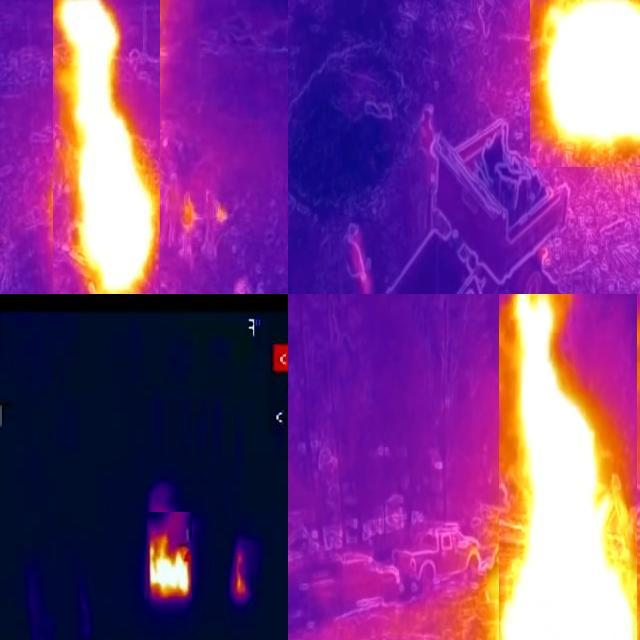fire: (499, 295, 637, 640), (53, 1, 160, 295), (530, 1, 640, 167), (147, 512, 192, 606), (231, 546, 249, 604)
